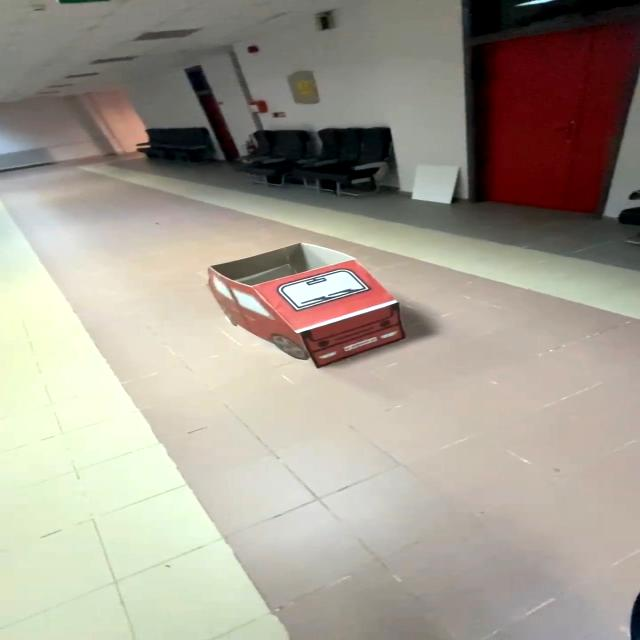red_car: (179, 230, 435, 381)
